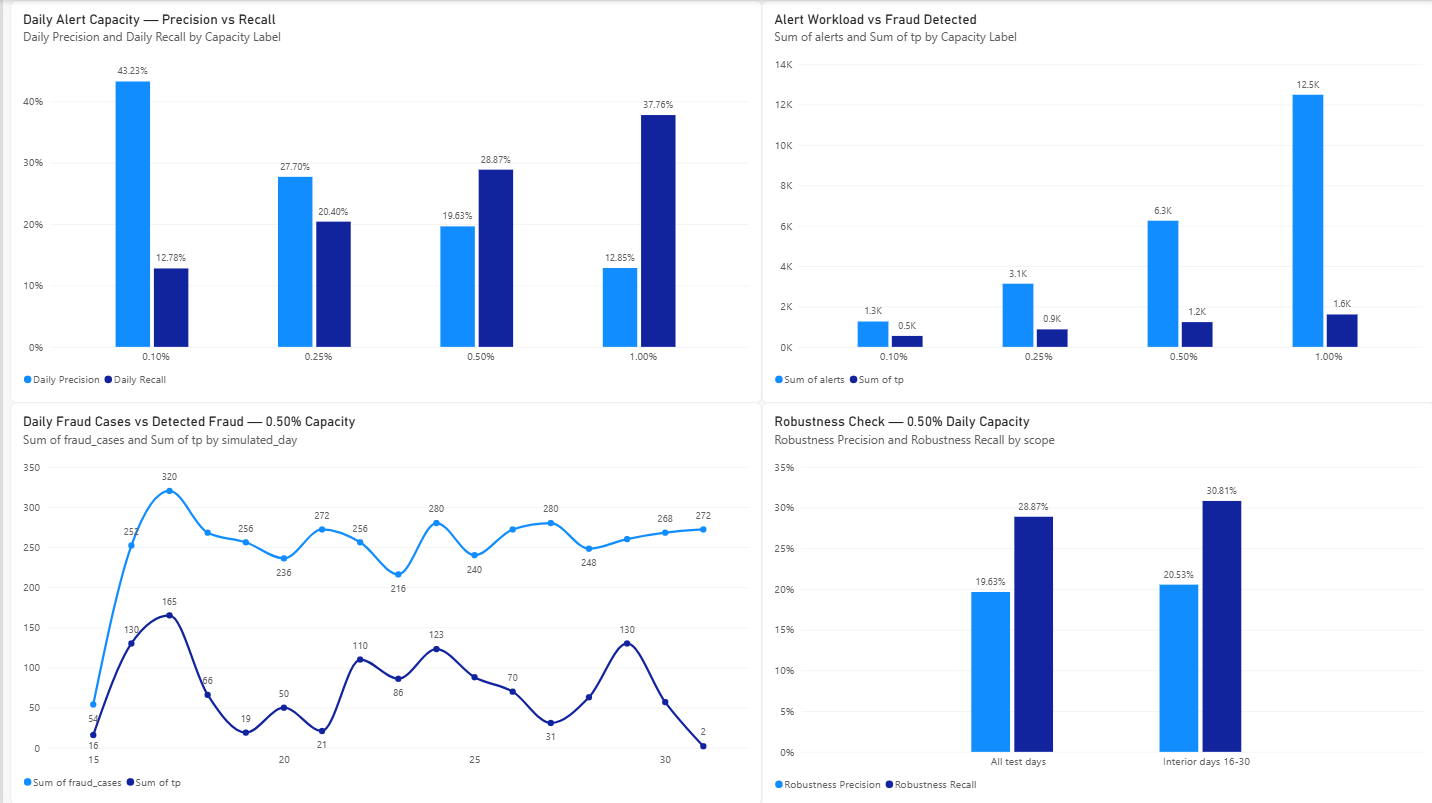

The dashboard page shown, as its layout file describes it:
{"tool":"powerbi","page":{"name":"Investigation Capacity","canvas":[1920,1080],"ordinal":3},"visuals":[{"type":"clusteredColumnChart","title":"Daily Alert Capacity — Precision vs Recall","fields":{"Category":["daily_capacity.Capacity Label"],"Y":["daily_capacity.Daily Precision","daily_capacity.Daily Recall"]},"box":[10,0,1006.7,540],"z":0},{"type":"clusteredColumnChart","title":"Alert Workload vs Fraud Detected","fields":{"Category":["daily_capacity.Capacity Label"],"Y":["Sum(daily_capacity.alerts)","Sum(daily_capacity.tp)"]},"box":[1016.7,0,903.3,540],"z":1},{"type":"lineChart","title":"Daily Fraud Cases vs Detected Fraud — 0.50% Capacity","fields":{"Category":["daily_alert_detail.simulated_day"],"Y":["Sum(daily_alert_detail.fraud_cases)","Sum(daily_alert_detail.tp)"]},"box":[10,540,1006.7,540],"z":2},{"type":"clusteredColumnChart","title":"Robustness Check — 0.50% Daily Capacity","fields":{"Category":["robustness_results.scope"],"Y":["robustness_results.Robustness Precision","robustness_results.Robustness Recall"]},"box":[1016.7,540,903.3,543.3],"z":3}]}

Visuals, with their boxes in screenshot pixels (x1, y1, x2, y2), scaled from the page's 1920x1080 canvas onto the 1432x803 screenshot:
"Daily Alert Capacity — Precision vs Recall" clusteredColumnChart: 7,0,758,402
"Alert Workload vs Fraud Detected" clusteredColumnChart: 758,0,1431,402
"Daily Fraud Cases vs Detected Fraud — 0.50% Capacity" lineChart: 7,402,758,802
"Robustness Check — 0.50% Daily Capacity" clusteredColumnChart: 758,402,1431,802
